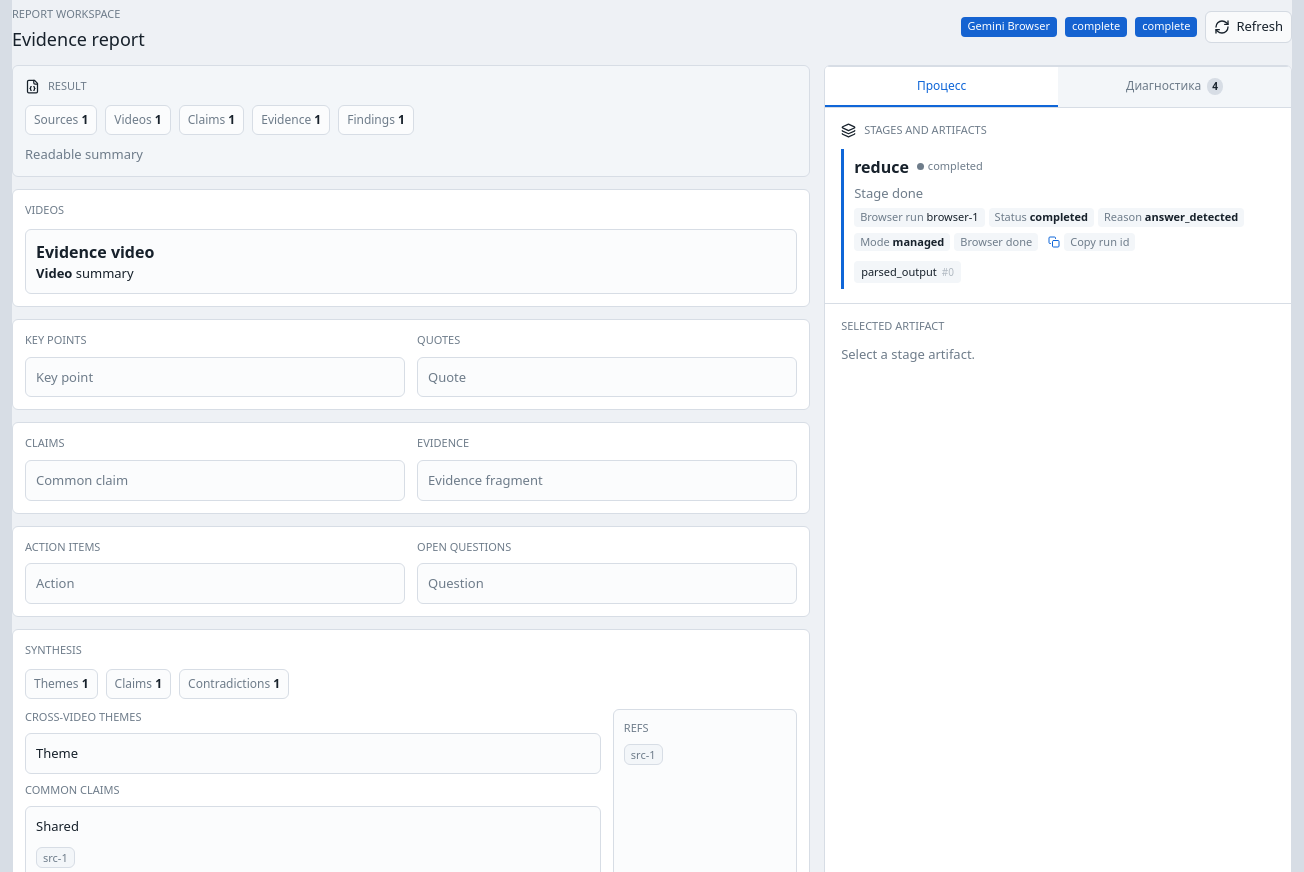
Test: project runs screen › makes report references clickable and highlights matching canonical items
expect the text "Readable summary" is shown: met, box [25, 144, 143, 162]
expect the text "reduce" is shown: met, box [854, 154, 909, 178]
Click the button "src-1" below "Shared" at (55, 858), box [36, 847, 75, 868]
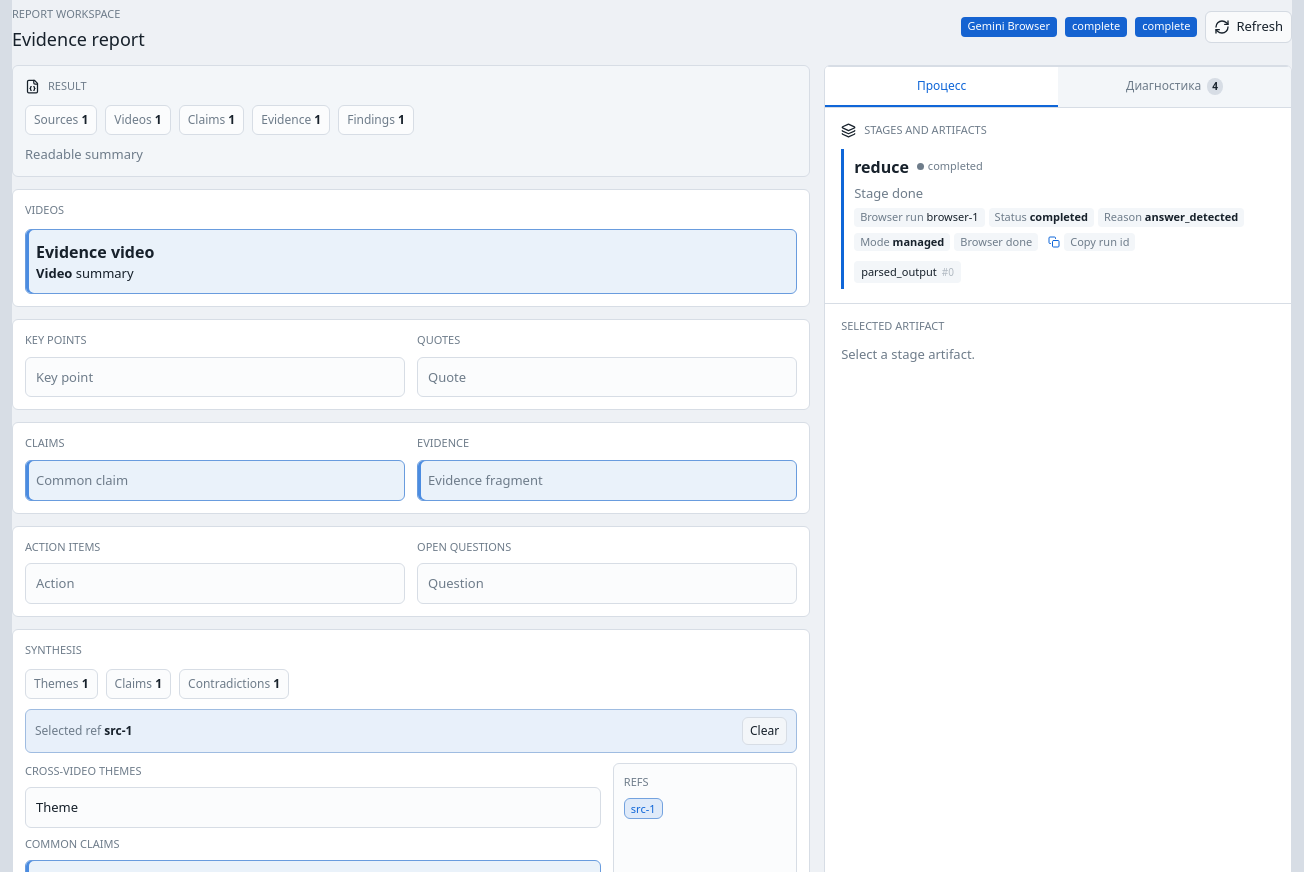
expect the text "Selected ref" is shown: met, box [35, 722, 104, 738]
expect the text "src-1" is shown: met, box [104, 722, 132, 738]
expect the button "Clear" is shown: met
Click the button "Clear" at (765, 730), box [742, 716, 787, 744]
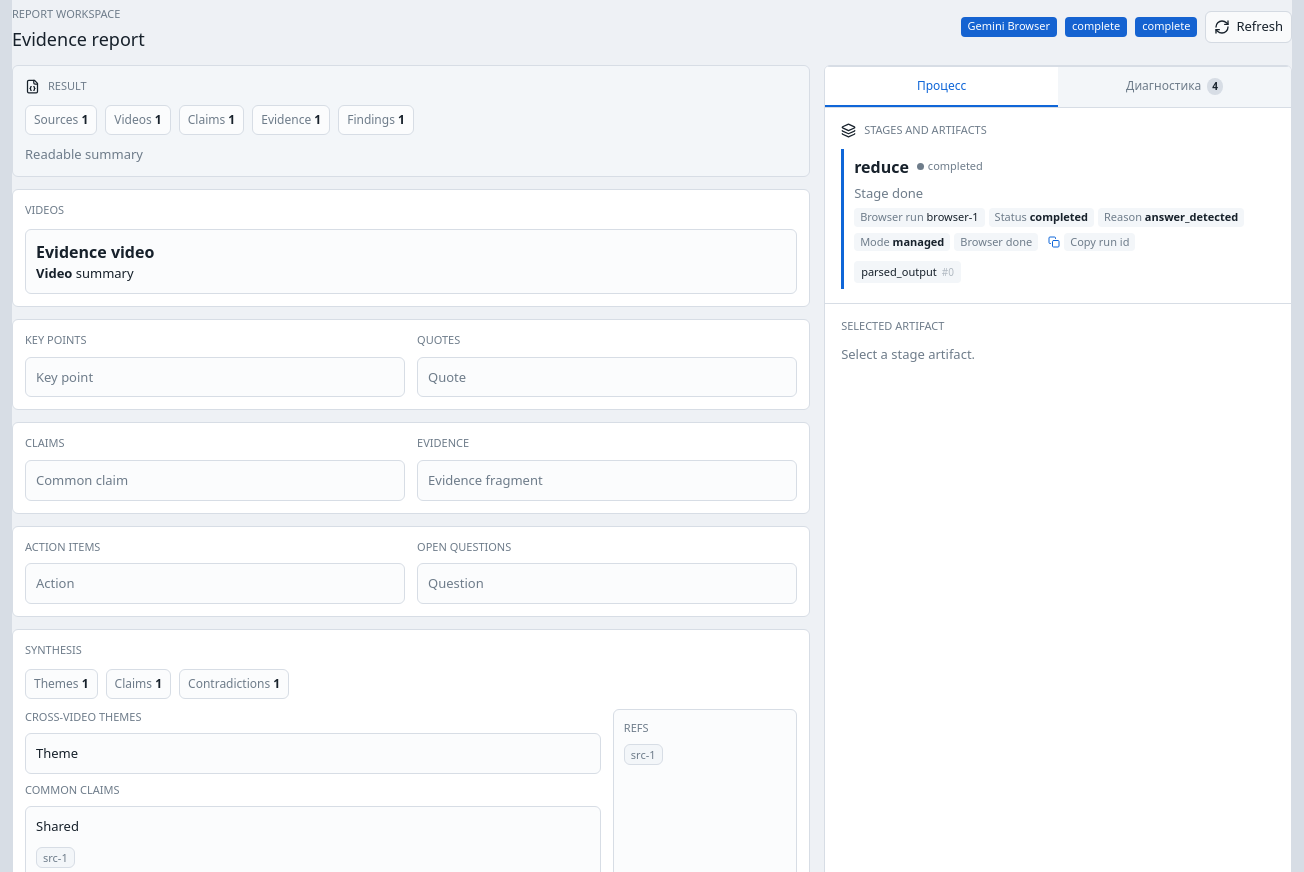
expect the text "Selected ref" is gone: met
